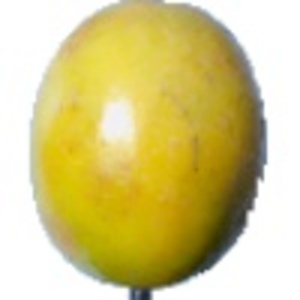maracujá: (29, 1, 270, 300)
